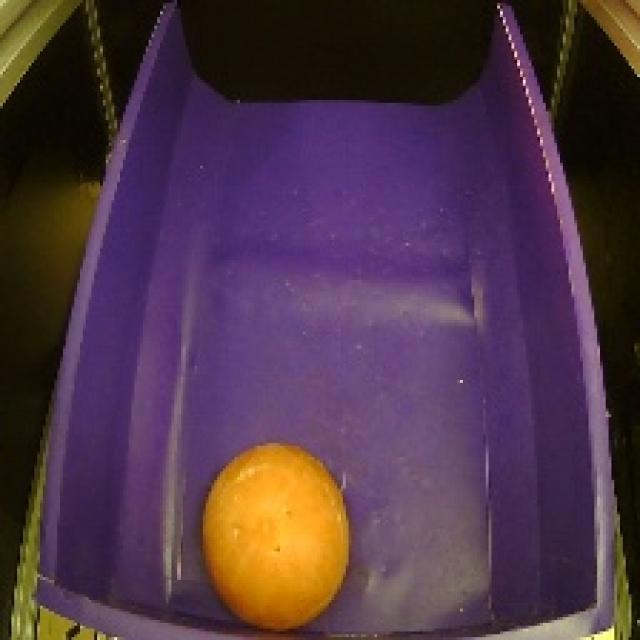carrots: (193, 433, 361, 634)
